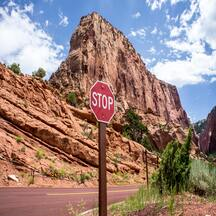Circle: (90, 79, 115, 123)
